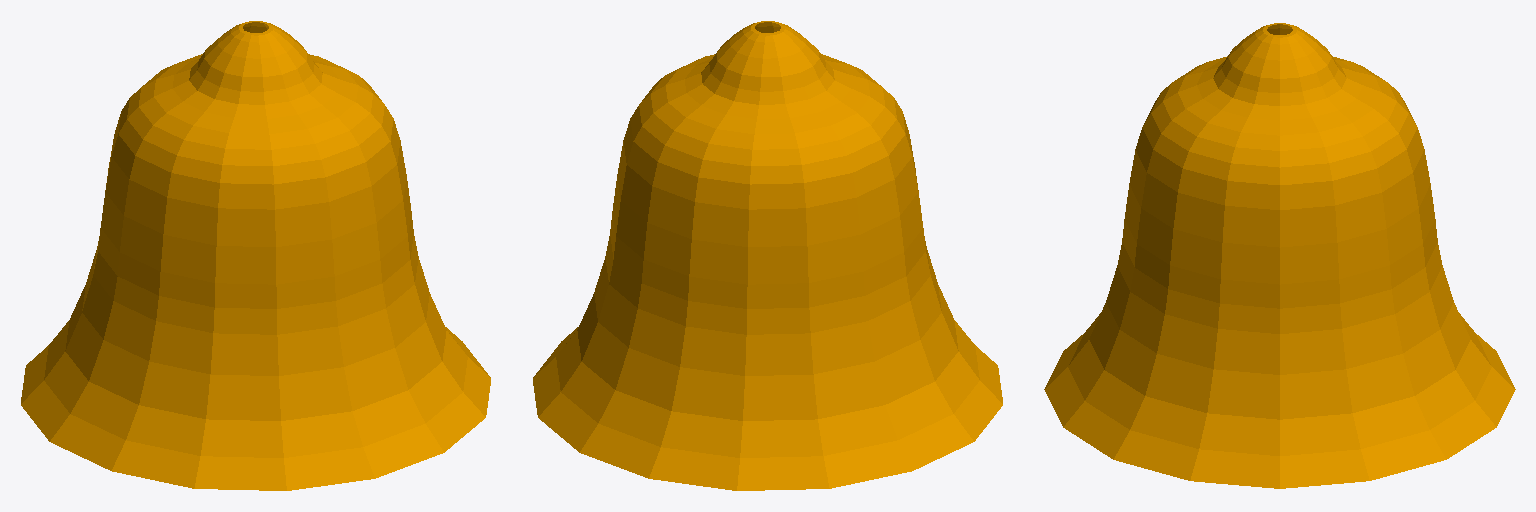
URDF robot description (mesh_object):
<robot name="mesh_object">
            <link name="base">
                <visual>
                    <geometry>
                        <mesh filename="bell_3.obj" scale="1 1 1" />
                    </geometry>
                </visual>
                <collision>
                    <geometry>
                        <mesh filename="bell_3.obj" scale="1 1 1" />
                    </geometry>
                </collision>
                <inertial>
                    <origin xyz="0.000000 0.000000 0.045500" rpy="0 0 0" />
                    <mass value="0.5" />
                    <inertia ixx="0.01" iyy="0.01" izz="0.01" ixy="0" ixz="0" iyz="0" />
                </inertial>
            </link>
            </robot>

--- Facts derived from the render (not from the file) ---
The picture shows the robot from 3 angles, left to right: view 1: azimuth 30°, elevation 25°; view 2: azimuth 150°, elevation 25°; view 3: azimuth 270°, elevation 25°; orthographic projection.
Robot: mesh_object — 1 links, 0 joints (none); root link base; default pose: all joints at 0.
Visible links, largest first — view 1: base; view 2: base; view 3: base.
Link boxes in pixels (x1=…): base: x1=21, y1=21, x2=490, y2=490; base: x1=533, y1=21, x2=1002, y2=490; base: x1=1044, y1=23, x2=1515, y2=488.
Bounding box of the posed robot: 0.1069 × 0.1069 × 0.1 m (x, y, z).
1 mesh visuals loaded from 1 distinct referenced files (1 OBJ).
